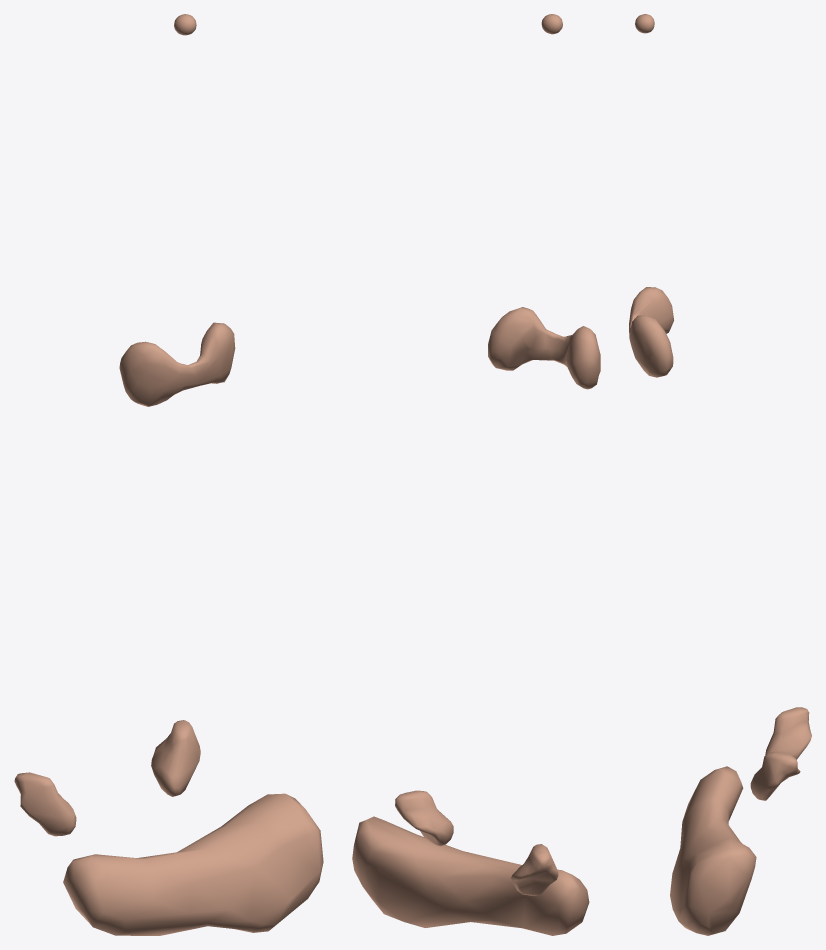
The model's file is pediatric_adolescent_female.endocrine.LOD1.glb.
3 renders of one model, left to right at view 1: azimuth 30°, elevation 25°; view 2: azimuth 150°, elevation 25°; view 3: azimuth 270°, elevation 25°, orthographic. The views are drawn at different scales.
Parts seen in each view (by area): view 1: PEDIATRIC.ADOLESCENT.FEMALE.ENDOCRINE.PANCREAS, PEDIATRIC.ADOLESCENT.FEMALE.ENDOCRINE.THYROID, PEDIATRIC.ADOLESCENT.FEMALE.ENDOCRINE.ADRENAL.L, PEDIATRIC.ADOLESCENT.FEMALE.ENDOCRINE.ADRENAL.R; view 2: PEDIATRIC.ADOLESCENT.FEMALE.ENDOCRINE.PANCREAS, PEDIATRIC.ADOLESCENT.FEMALE.ENDOCRINE.THYROID, PEDIATRIC.ADOLESCENT.FEMALE.ENDOCRINE.ADRENAL.L, PEDIATRIC.ADOLESCENT.FEMALE.ENDOCRINE.ADRENAL.R; view 3: PEDIATRIC.ADOLESCENT.FEMALE.ENDOCRINE.PANCREAS, PEDIATRIC.ADOLESCENT.FEMALE.ENDOCRINE.THYROID, PEDIATRIC.ADOLESCENT.FEMALE.ENDOCRINE.ADRENAL.R, PEDIATRIC.ADOLESCENT.FEMALE.ENDOCRINE.ADRENAL.L.
Part boxes in pixels (x1,y1,x2,y2): PEDIATRIC.ADOLESCENT.FEMALE.ENDOCRINE.PANCREAS: (63,793,323,935); PEDIATRIC.ADOLESCENT.FEMALE.ENDOCRINE.THYROID: (119,322,235,406); PEDIATRIC.ADOLESCENT.FEMALE.ENDOCRINE.ADRENAL.L: (151,720,200,796); PEDIATRIC.ADOLESCENT.FEMALE.ENDOCRINE.ADRENAL.R: (14,772,76,836); PEDIATRIC.ADOLESCENT.FEMALE.ENDOCRINE.PANCREAS: (352,816,589,935); PEDIATRIC.ADOLESCENT.FEMALE.ENDOCRINE.THYROID: (488,307,600,389); PEDIATRIC.ADOLESCENT.FEMALE.ENDOCRINE.ADRENAL.L: (395,790,453,846); PEDIATRIC.ADOLESCENT.FEMALE.ENDOCRINE.ADRENAL.R: (510,844,558,895); PEDIATRIC.ADOLESCENT.FEMALE.ENDOCRINE.PANCREAS: (670,766,756,935); PEDIATRIC.ADOLESCENT.FEMALE.ENDOCRINE.THYROID: (629,287,673,377); PEDIATRIC.ADOLESCENT.FEMALE.ENDOCRINE.ADRENAL.R: (765,707,811,759); PEDIATRIC.ADOLESCENT.FEMALE.ENDOCRINE.ADRENAL.L: (750,752,800,800).
Size of the model in its own units: 0.1318 by 0.4818 by 0.0918.
